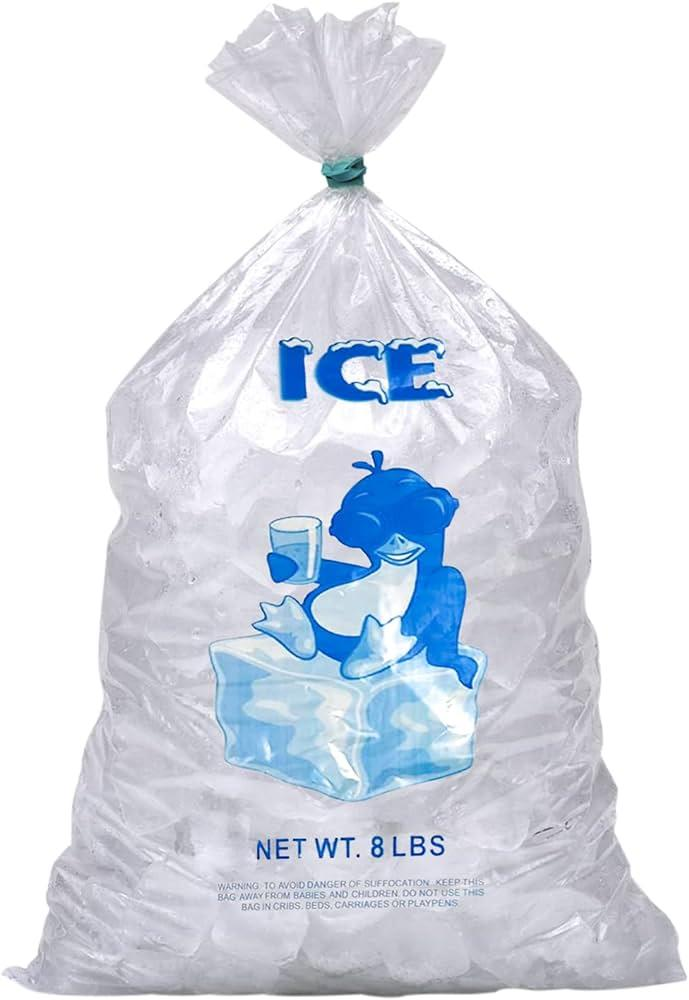LDPE: (2, 8, 681, 992)
